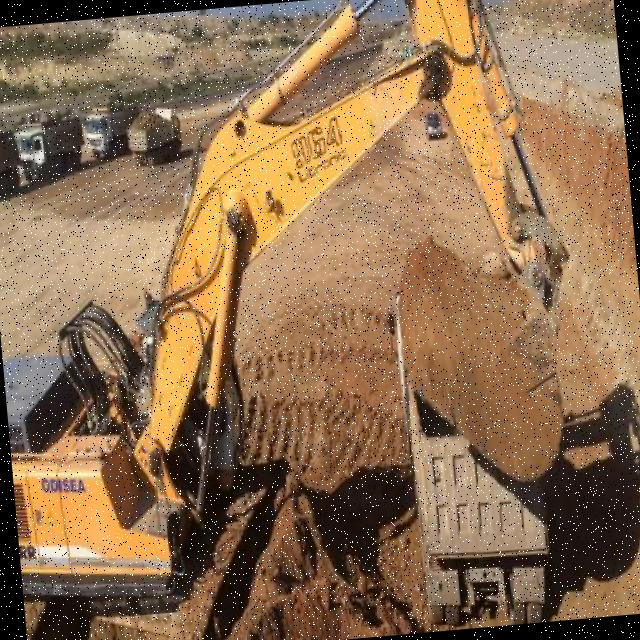Dump Truck: (386, 271, 554, 631), (12, 115, 84, 180), (124, 108, 182, 168), (84, 101, 138, 158)
Excavator: (0, 0, 605, 640)
